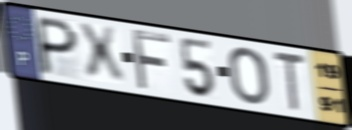5: (177, 35, 218, 100)
F: (129, 27, 174, 93)
O: (226, 46, 271, 107)
P: (37, 14, 80, 78)
T: (272, 49, 308, 113)
X: (75, 22, 129, 86)
